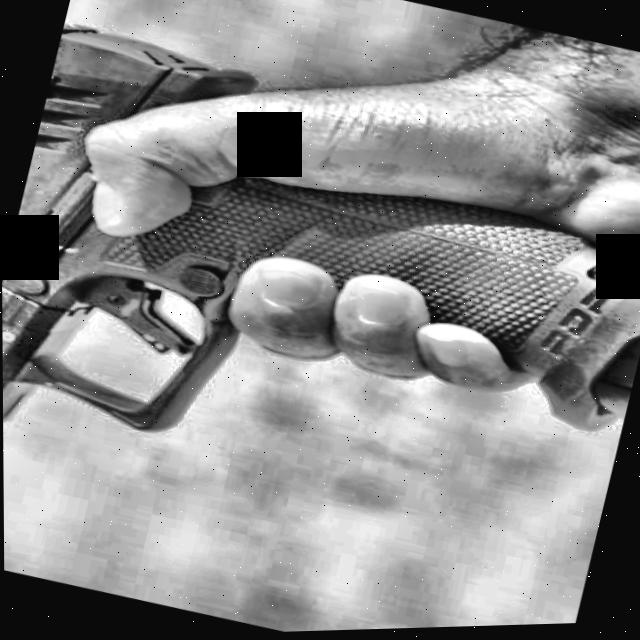Walther: (0, 5, 640, 640)
